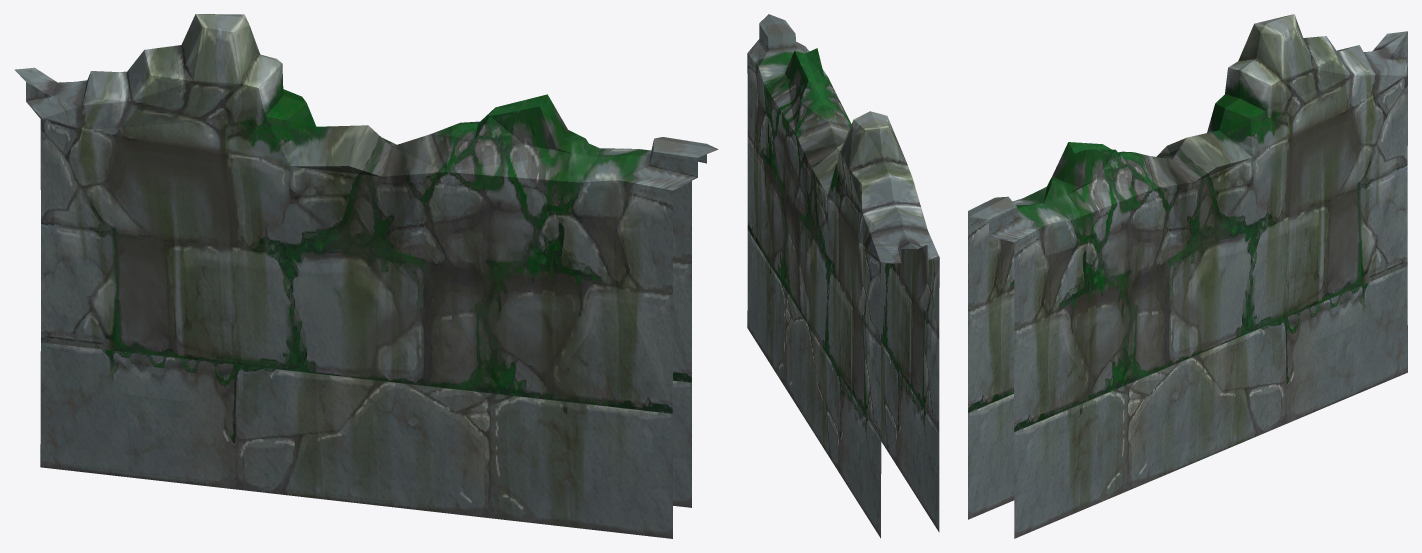
File: stemple_half_diagonal_03.fbx
3 renders of one model, left to right at view 1: azimuth 30°, elevation 25°; view 2: azimuth 150°, elevation 25°; view 3: azimuth 270°, elevation 25°, orthographic. The views are drawn at different scales.
Parts seen in each view (by area): view 1: obj1.095; view 2: obj1.095; view 3: obj1.095.
Boxes of the visible parts, bbox=[...] form: obj1.095: bbox=[14, 14, 718, 538]; obj1.095: bbox=[747, 14, 939, 538]; obj1.095: bbox=[968, 14, 1407, 538].
Bounding box in the file's own units: 4 × 3.91 × 4.
